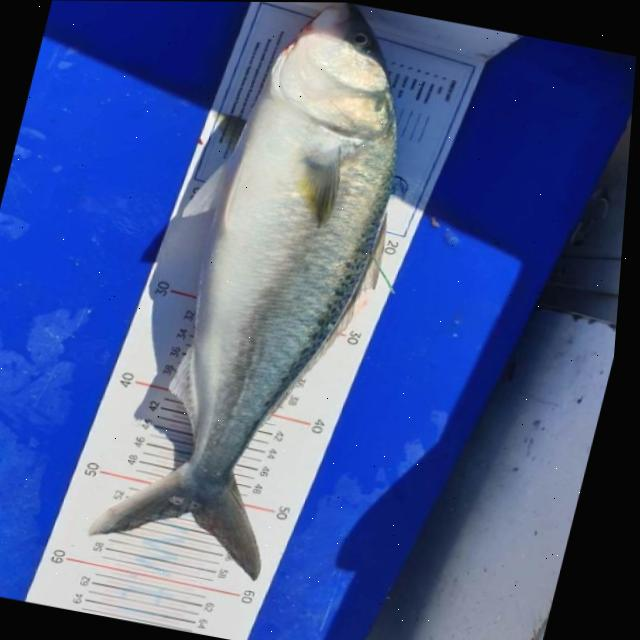Australian Salmon: (66, 1, 453, 596)
